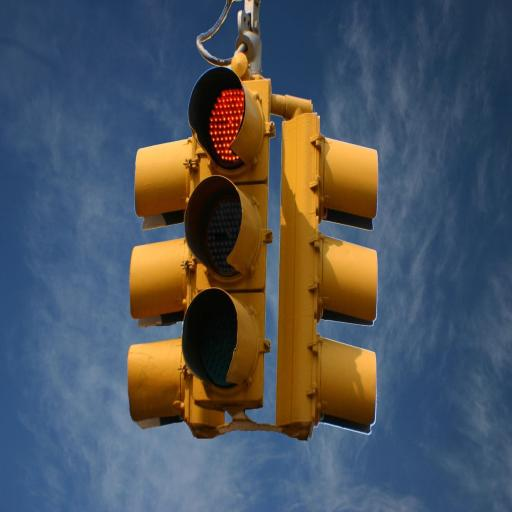traffic light: (276, 111, 378, 440), (182, 65, 272, 411)
